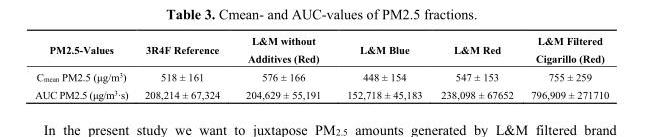table: (34, 34, 608, 100)
table column: (34, 34, 135, 100), (232, 34, 333, 100), (135, 34, 232, 100), (333, 34, 430, 100), (430, 34, 521, 100), (521, 34, 608, 100)
table column header: (34, 34, 608, 67)
table row: (34, 34, 608, 67), (34, 67, 608, 85), (34, 85, 608, 100)
